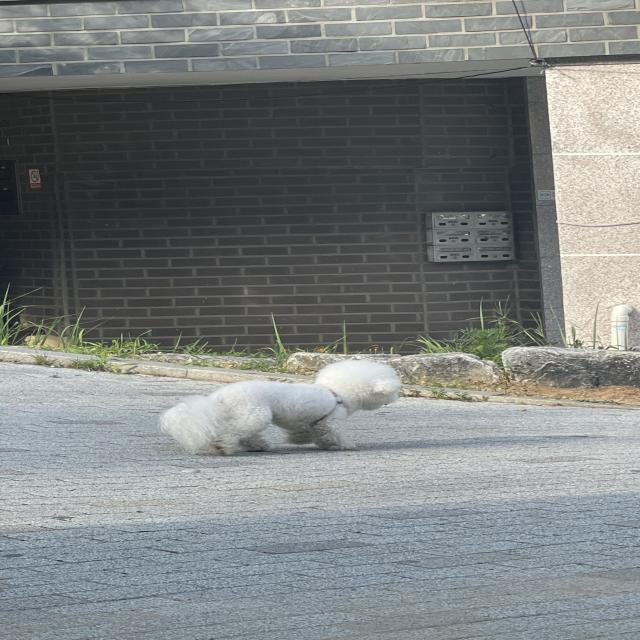Dog: (161, 360, 403, 456)
